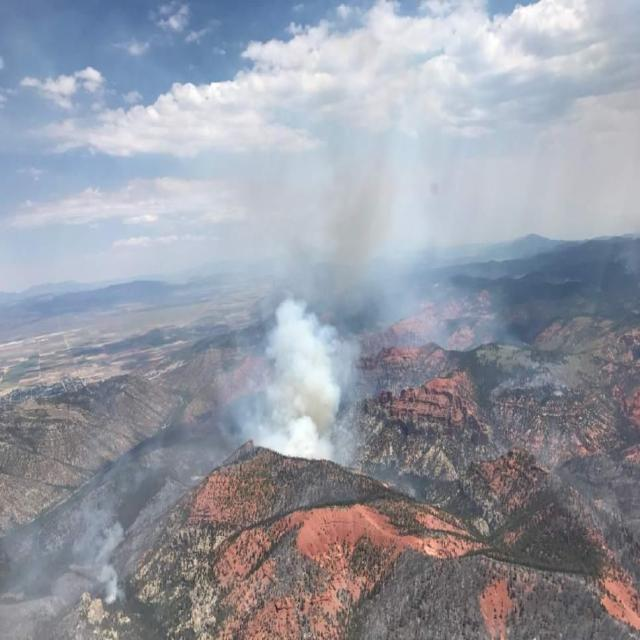Smoke: (302, 106, 408, 333), (224, 294, 356, 474), (71, 508, 119, 612)
